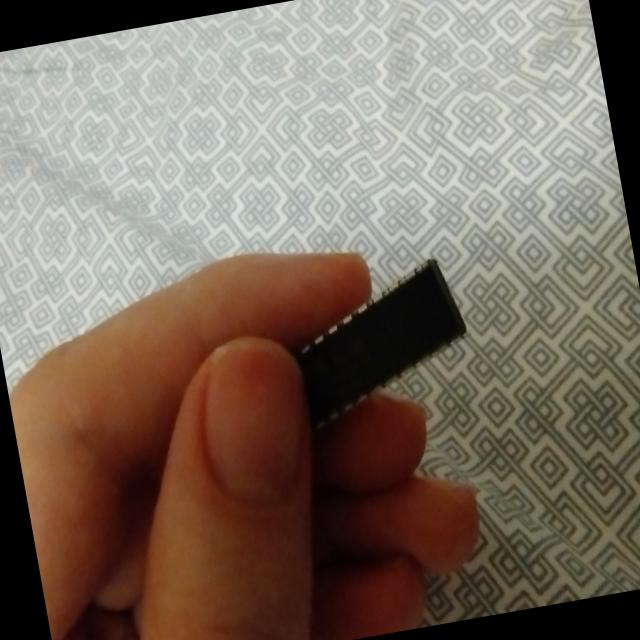atmega: (278, 249, 482, 438)
